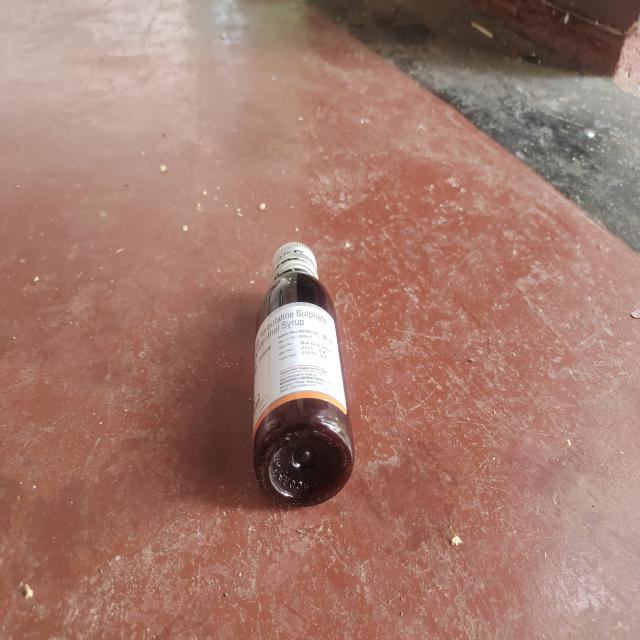plastic: (252, 239, 356, 515)
